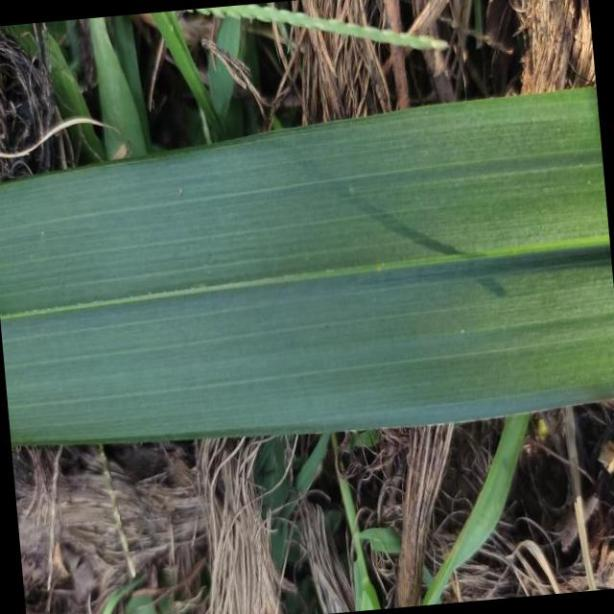Healthy: (3, 88, 614, 442)
